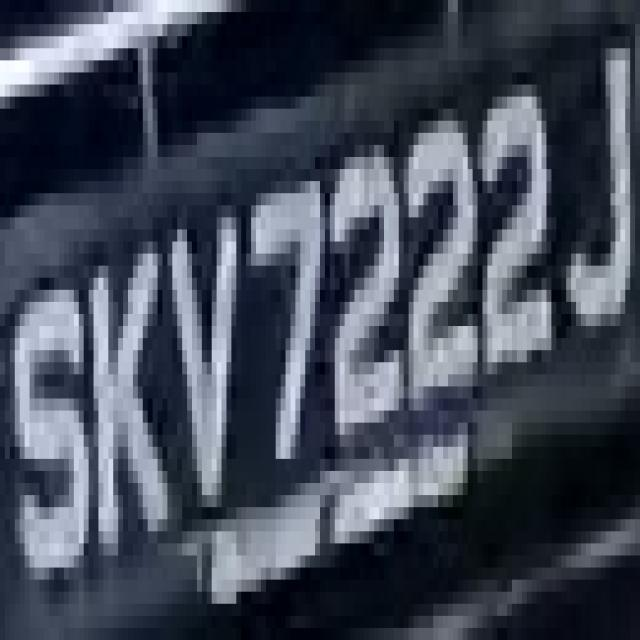2: (468, 84, 566, 434), (310, 145, 414, 459), (384, 109, 487, 422)
7: (246, 169, 325, 495)
J: (566, 0, 635, 362)
K: (74, 205, 172, 568)
S: (10, 266, 93, 628)
V: (158, 218, 236, 520)
